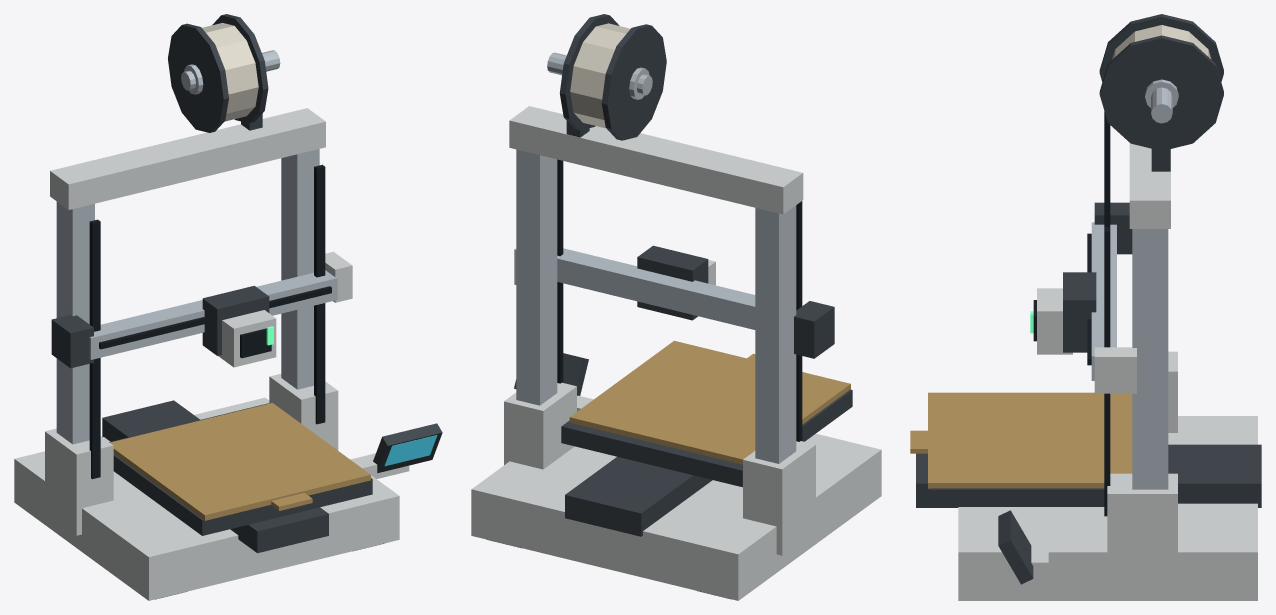
3 views of the same model, side by side, from view 1: azimuth 30°, elevation 25°; view 2: azimuth 150°, elevation 25°; view 3: azimuth 270°, elevation 25° (orthographic). The views are drawn at different scales.
Visible parts, largest first — view 1: a1-lod_Porcelain_polymer, a1-lod_Graphite_frame, a1-lod_Brushed_aluminum, a1-lod_Textured_gold_PEI, a1-lod_Rubber_and_belts, a1-lod_Warm_white_filament, a1-lod_Display_glass; view 2: a1-lod_Porcelain_polymer, a1-lod_Brushed_aluminum, a1-lod_Graphite_frame, a1-lod_Textured_gold_PEI, a1-lod_Warm_white_filament, a1-lod_Rubber_and_belts; view 3: a1-lod_Porcelain_polymer, a1-lod_Graphite_frame, a1-lod_Textured_gold_PEI, a1-lod_Brushed_aluminum, a1-lod_Rubber_and_belts, a1-lod_Warm_white_filament.
Boxes of the visible parts, x1,y1,x2,y2 form: a1-lod_Porcelain_polymer: (14, 108, 409, 600); a1-lod_Graphite_frame: (51, 14, 442, 553); a1-lod_Brushed_aluminum: (56, 50, 337, 444); a1-lod_Textured_gold_PEI: (110, 403, 370, 520); a1-lod_Rubber_and_belts: (89, 164, 383, 599); a1-lod_Warm_white_filament: (202, 23, 258, 121); a1-lod_Display_glass: (384, 435, 437, 466); a1-lod_Porcelain_polymer: (471, 106, 881, 600); a1-lod_Brushed_aluminum: (516, 52, 796, 463); a1-lod_Graphite_frame: (514, 14, 852, 536); a1-lod_Textured_gold_PEI: (569, 340, 850, 464); a1-lod_Warm_white_filament: (570, 23, 630, 128); a1-lod_Rubber_and_belts: (487, 159, 802, 599); a1-lod_Porcelain_polymer: (958, 143, 1257, 600); a1-lod_Graphite_frame: (916, 14, 1261, 584); a1-lod_Textured_gold_PEI: (910, 392, 1132, 488); a1-lod_Brushed_aluminum: (1091, 79, 1178, 489); a1-lod_Rubber_and_belts: (1033, 111, 1110, 516); a1-lod_Warm_white_filament: (1112, 25, 1211, 59).
Bounding box in the file's own units: 0.5505 × 0.762 × 0.4575.
